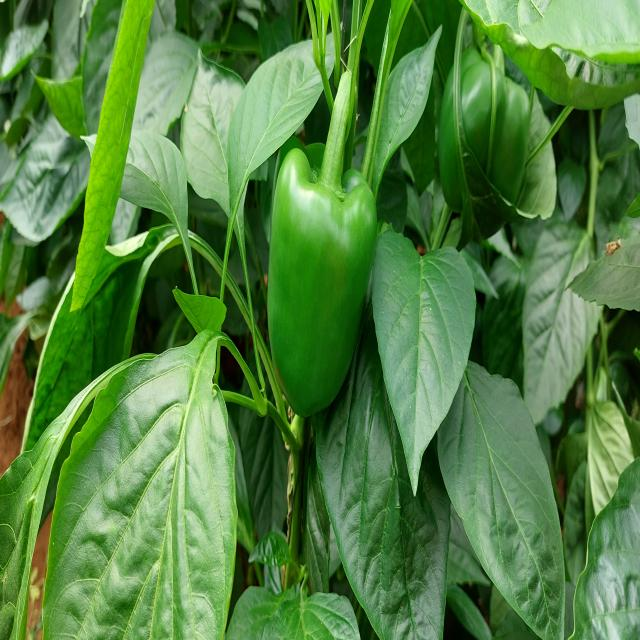Green--Not-ready-to-harvest: (270, 142, 371, 426), (444, 38, 529, 241)
